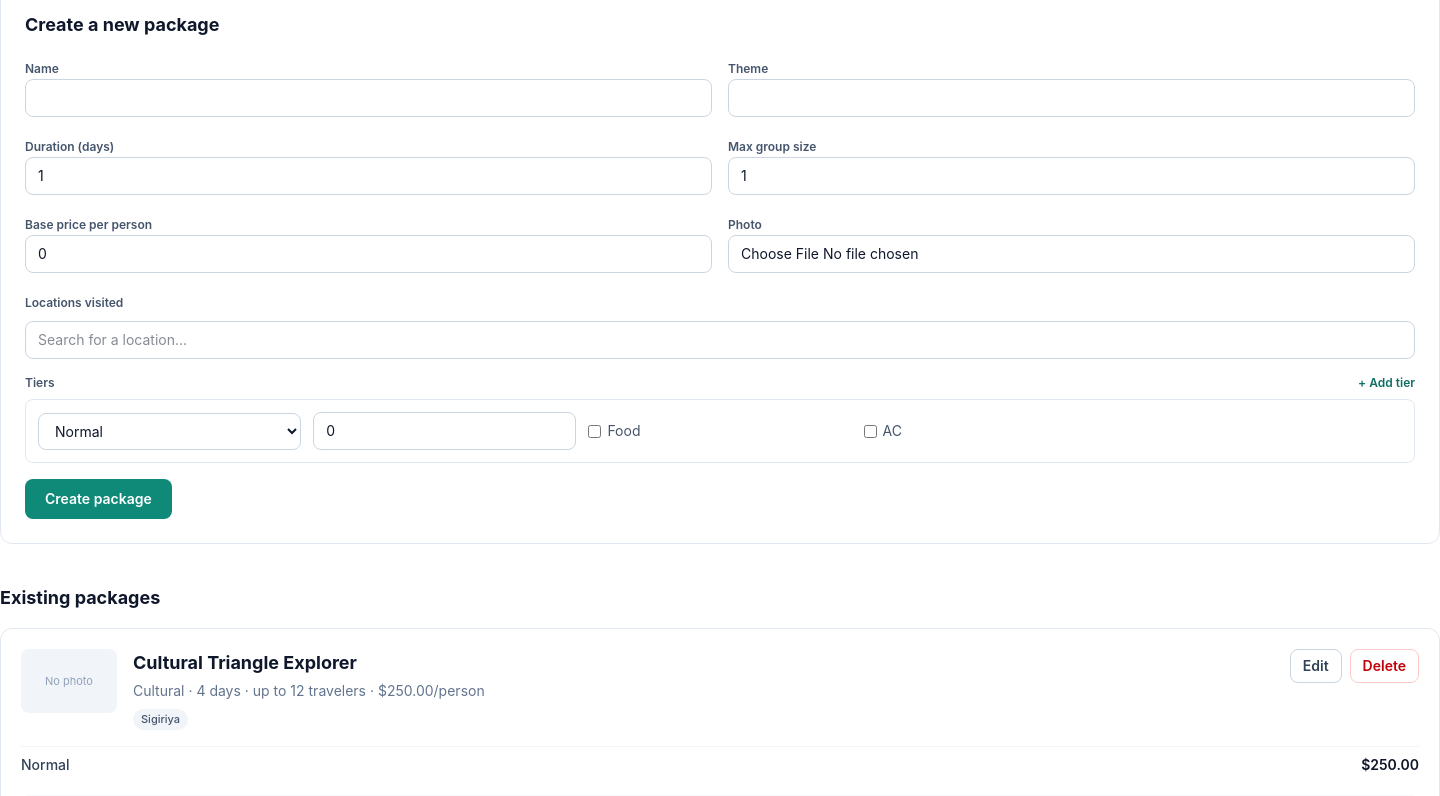
Test: PackageManager › edit › pre-fills the inline form, saves via updatePackage, and exits edit mode
Expected: the heading "Cultural Triangle Explorer" is shown, [133,652,357,673]
Click the button "Edit" at (1316, 666), box [1290,649,1342,683]
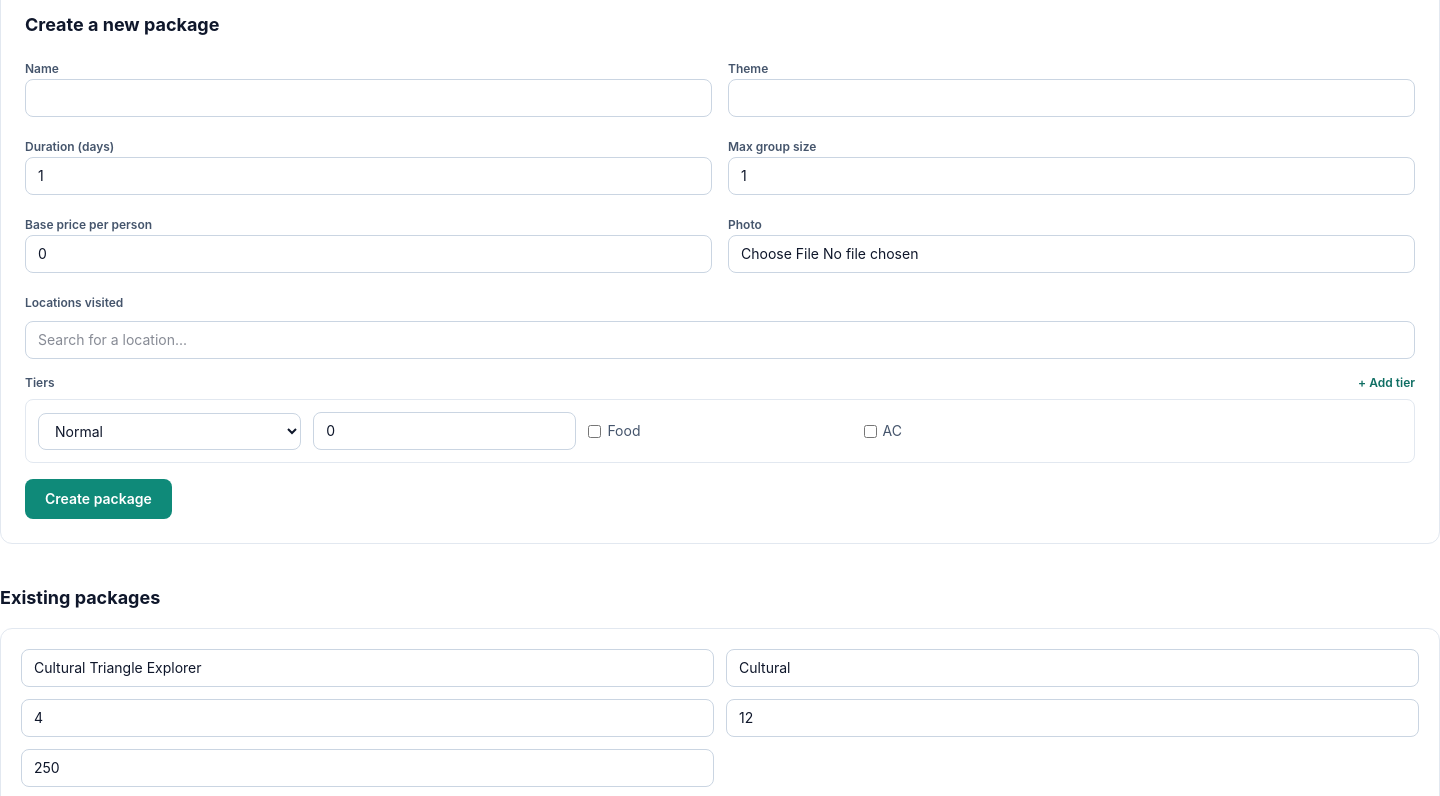
Expected: the field named "Name" holds "Cultural Triangle Explorer"
Replace the text in the field named "Name" with "Updated Name" at (368, 668), box [21,649,714,687]
(page scrolled)
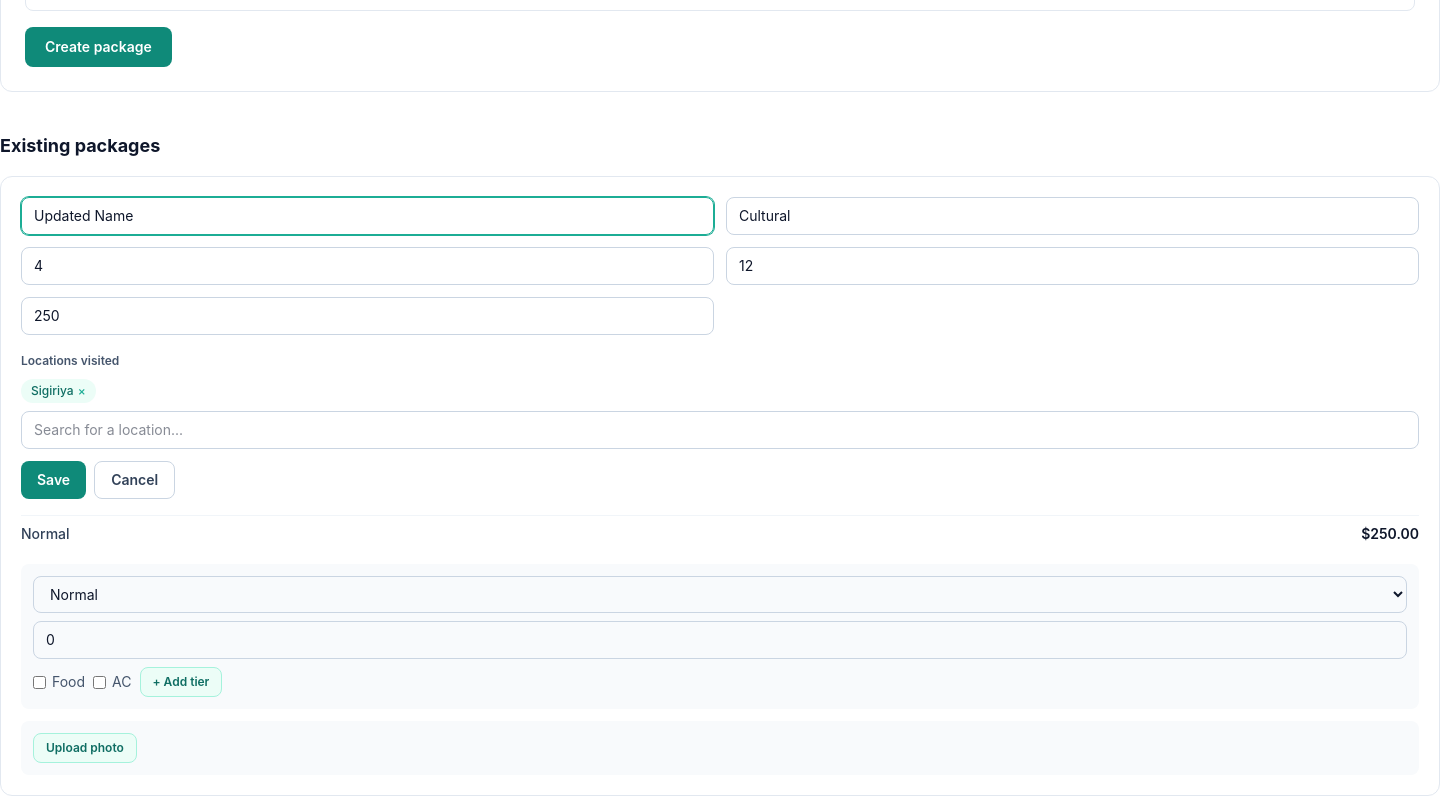
Click the button "Save" at (54, 480), box [21,461,86,499]
(page scrolled)
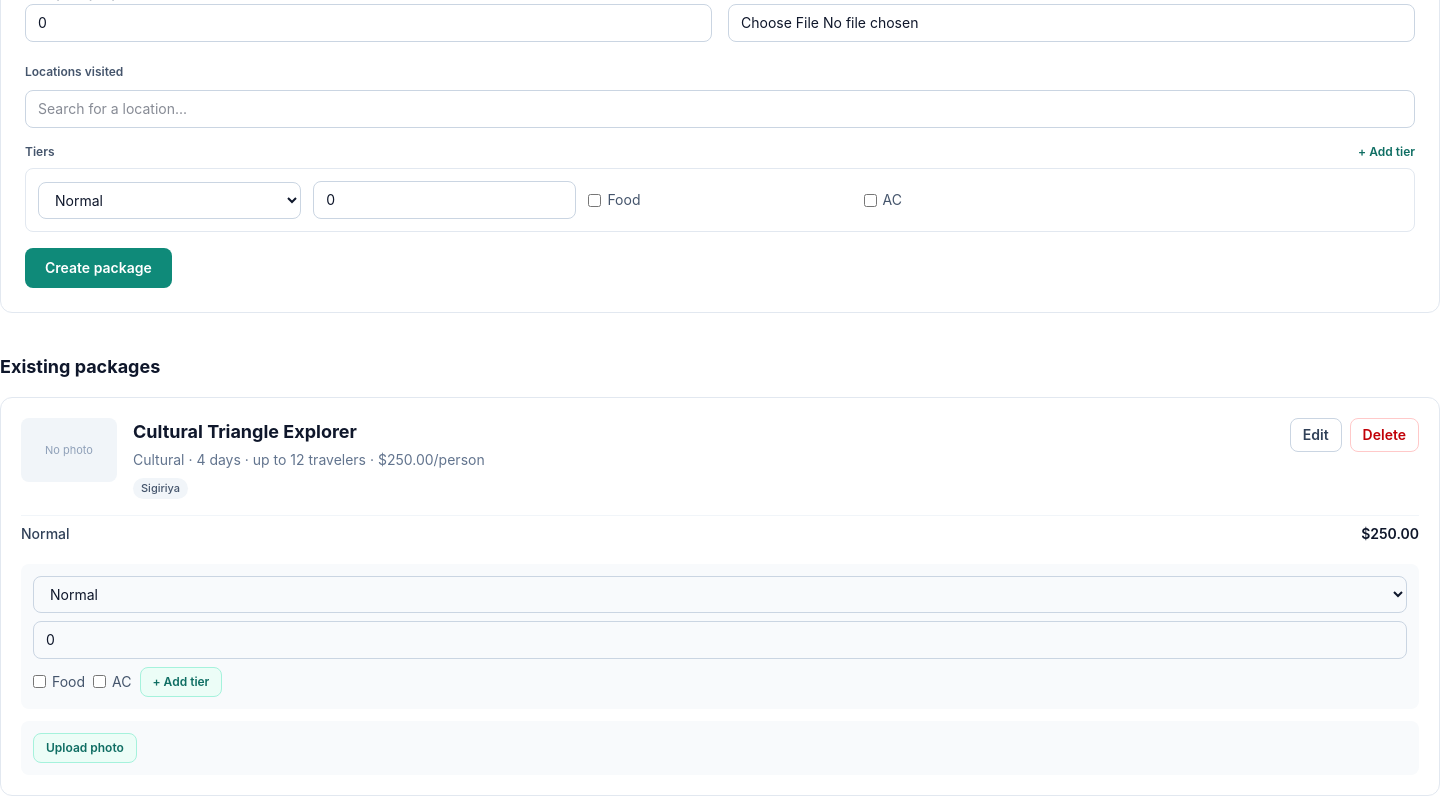
Expected: the button "Edit" is shown, [1290,418,1342,452]
Expected: the button "Save" is gone
